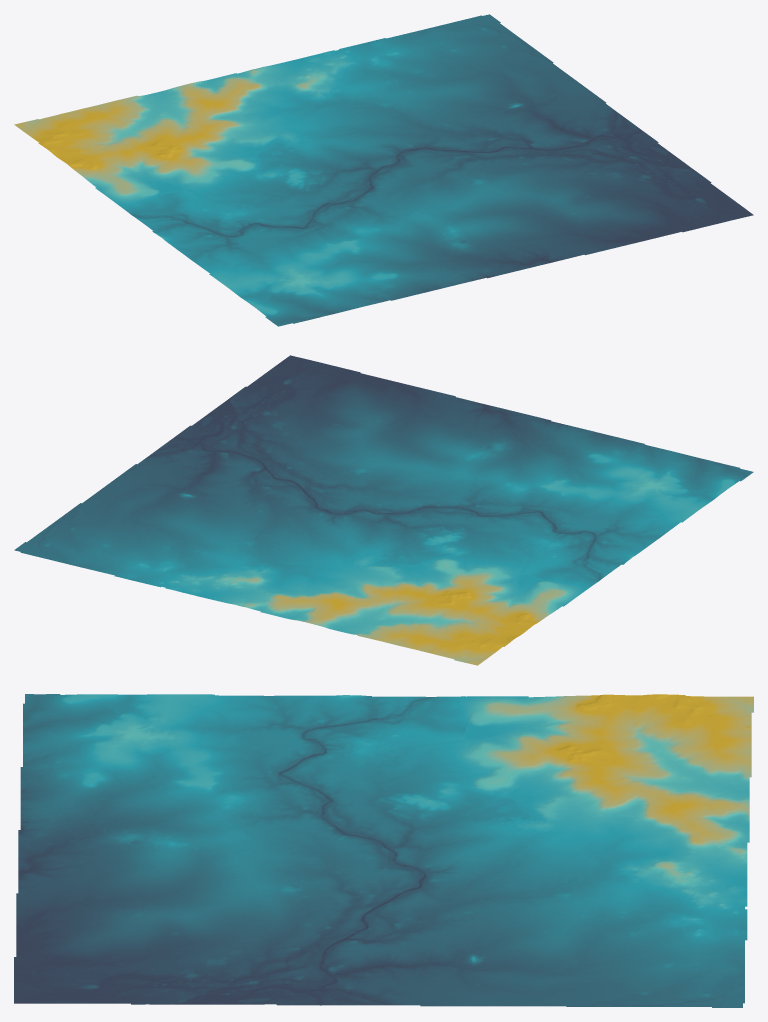
Rendered from terrain.glb.
3 views of the same model, one above another, from view 1: azimuth 30°, elevation 25°; view 2: azimuth 150°, elevation 25°; view 3: azimuth 270°, elevation 25° (orthographic). The views are drawn at different scales.
Parts seen in each view (by area): view 1: terrain-chunk-0004, terrain-chunk-0003, terrain-chunk-0001, terrain-chunk-0000, terrain-chunk-0005, terrain-chunk-0007, terrain-chunk-0006, terrain-chunk-0002, terrain-chunk-0008; view 2: terrain-chunk-0004, terrain-chunk-0001, terrain-chunk-0003, terrain-chunk-0000, terrain-chunk-0005, terrain-chunk-0007, terrain-chunk-0006, terrain-chunk-0002, terrain-chunk-0008; view 3: terrain-chunk-0004, terrain-chunk-0001, terrain-chunk-0003, terrain-chunk-0000, terrain-chunk-0005, terrain-chunk-0007, terrain-chunk-0006, terrain-chunk-0002, terrain-chunk-0008.
Part boxes in pixels (x1,y1,x2,y2): terrain-chunk-0004: [255, 87, 542, 208]; terrain-chunk-0003: [78, 131, 359, 251]; terrain-chunk-0001: [360, 164, 645, 283]; terrain-chunk-0000: [181, 209, 461, 326]; terrain-chunk-0005: [437, 60, 651, 164]; terrain-chunk-0007: [191, 40, 436, 130]; terrain-chunk-0006: [14, 83, 254, 172]; terrain-chunk-0002: [543, 138, 753, 240]; terrain-chunk-0008: [374, 14, 549, 86]; terrain-chunk-0004: [188, 457, 473, 576]; terrain-chunk-0001: [293, 381, 574, 500]; terrain-chunk-0003: [369, 501, 650, 618]; terrain-chunk-0000: [474, 427, 753, 543]; terrain-chunk-0005: [77, 430, 292, 532]; terrain-chunk-0007: [125, 533, 368, 622]; terrain-chunk-0006: [306, 576, 543, 665]; terrain-chunk-0002: [184, 355, 394, 456]; terrain-chunk-0008: [14, 506, 187, 578]; terrain-chunk-0004: [294, 812, 577, 933]; terrain-chunk-0001: [16, 813, 294, 933]; terrain-chunk-0003: [294, 695, 577, 813]; terrain-chunk-0000: [20, 694, 294, 813]; terrain-chunk-0005: [294, 933, 577, 1006]; terrain-chunk-0007: [577, 811, 749, 933]; terrain-chunk-0006: [577, 694, 753, 812]; terrain-chunk-0002: [14, 933, 294, 1005]; terrain-chunk-0008: [577, 932, 747, 1007].
Size of the model in its own units: 20661 by 131 by 20600.
